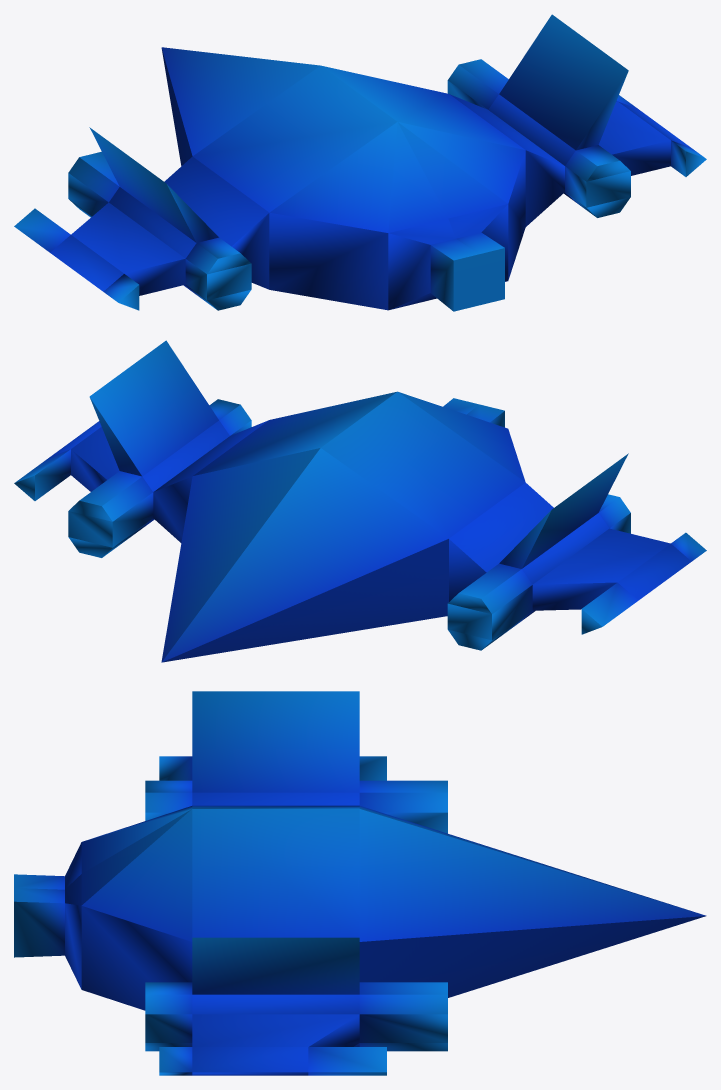
The model's file is player2.glb.
The picture shows the model from 3 angles, top to bottom: view 1: azimuth 30°, elevation 25°; view 2: azimuth 150°, elevation 25°; view 3: azimuth 270°, elevation 25°; orthographic projection. The views are drawn at different scales.
Visible parts, largest first — view 1: Cube; view 2: Cube; view 3: Cube.
Part boxes in pixels (<box>): Cube: <box>14,14,706,311</box>; Cube: <box>14,340,706,662</box>; Cube: <box>14,691,706,1075</box>.
Size of the model in its own units: 2.02 by 0.4491 by 1.89.
